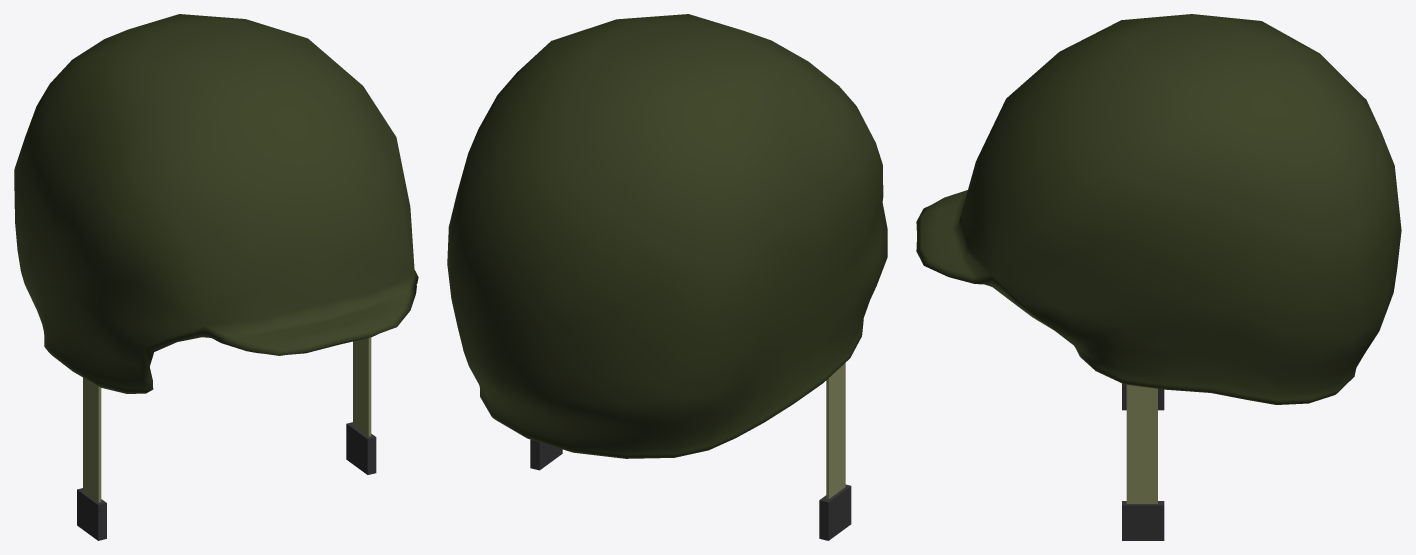
The model's file is armyhelmet.fbx.
3 views of the same model, side by side, from view 1: azimuth 30°, elevation 25°; view 2: azimuth 150°, elevation 25°; view 3: azimuth 270°, elevation 25° (orthographic). The views are drawn at different scales.
Visible parts, largest first — view 1: Icosphere, Cube.001, Cube, Cube.002, Cube.003; view 2: Icosphere, Cube.001, Cube.003, Cube.002; view 3: Icosphere, Cube, Cube.002.
Boxes of the visible parts, x1,y1,x2,y2 form: Icosphere: (14,14,418,393); Cube.001: (83,377,101,502); Cube: (353,337,371,436); Cube.002: (346,422,376,474); Cube.003: (77,488,106,540); Icosphere: (447,14,887,458); Cube.001: (826,363,845,498); Cube.003: (819,484,851,540); Cube.002: (530,439,562,470); Icosphere: (916,14,1401,404); Cube: (1126,384,1157,503); Cube.002: (1122,501,1164,540).
Size of the model in its own units: 22.14 by 29.9 by 30.1.
